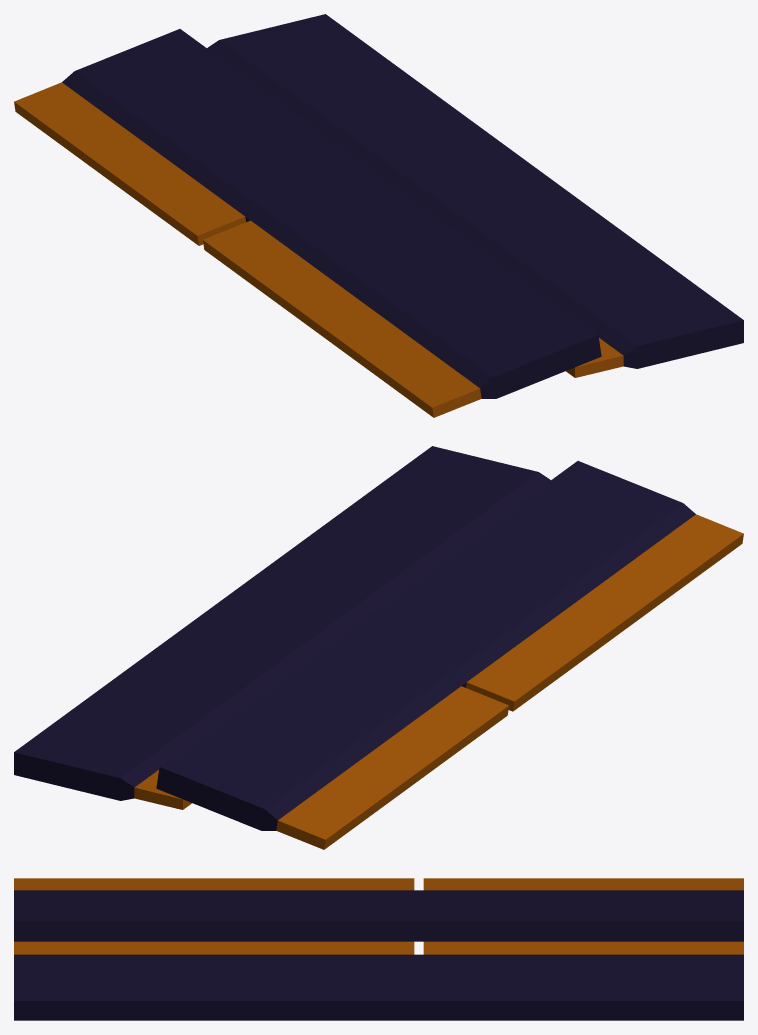
Rendered from Memory component.glb.
3 renders of one model, top to bottom at view 1: azimuth 30°, elevation 25°; view 2: azimuth 150°, elevation 25°; view 3: azimuth 270°, elevation 25°, orthographic. The views are drawn at different scales.
Parts seen in each view (by area): view 1: Memory component; view 2: Memory component; view 3: Memory component.
Boxes of the visible parts, <box> form: Memory component: <box>14,14,743,417</box>; Memory component: <box>14,446,743,849</box>; Memory component: <box>14,878,743,1020</box>.
Bounding box in the file's own units: 1.72 × 0.2297 × 3.99.
